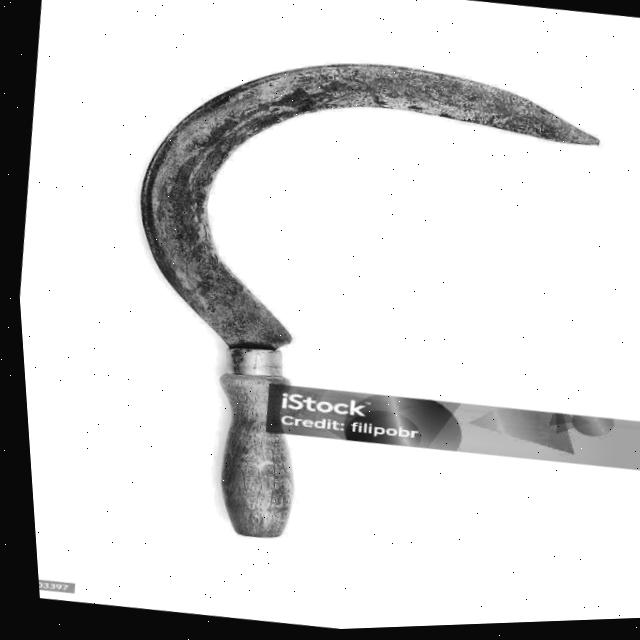celurit: (107, 59, 632, 541)
